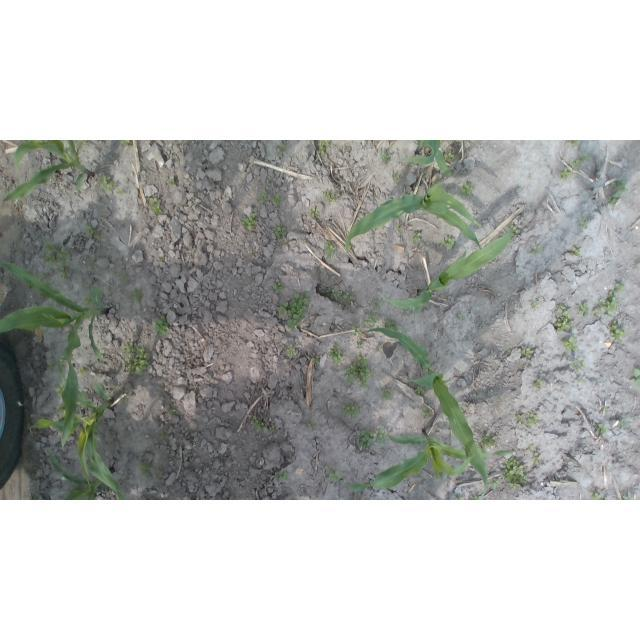Maize: (363, 327, 489, 500), (1, 259, 110, 449), (30, 368, 125, 501), (341, 426, 516, 494), (377, 226, 512, 312), (346, 181, 483, 252), (2, 140, 95, 206), (45, 452, 114, 500), (398, 140, 454, 178)
Weeds: (120, 343, 151, 377), (344, 356, 373, 389), (287, 291, 309, 330), (505, 456, 528, 488), (43, 240, 71, 264), (592, 291, 616, 317), (607, 179, 627, 205), (554, 311, 574, 332), (359, 430, 377, 452), (516, 413, 540, 428), (608, 319, 624, 341), (329, 288, 356, 300), (329, 343, 344, 364), (325, 467, 343, 484), (155, 316, 170, 336), (561, 336, 578, 352), (481, 433, 497, 450), (97, 173, 115, 188), (252, 416, 267, 433), (243, 213, 257, 231), (343, 404, 362, 417), (383, 317, 399, 332), (274, 228, 288, 245), (150, 197, 163, 215), (137, 459, 152, 474), (59, 264, 73, 280), (459, 183, 474, 197), (442, 236, 457, 250), (569, 358, 584, 372), (284, 345, 298, 359), (365, 315, 380, 328), (630, 369, 640, 388), (324, 242, 337, 256), (576, 303, 589, 317), (402, 308, 421, 317), (597, 423, 610, 435), (55, 403, 66, 417), (323, 191, 337, 202), (561, 166, 572, 180), (520, 348, 534, 359), (380, 388, 392, 400), (83, 294, 94, 307), (529, 244, 542, 255), (278, 301, 288, 315), (273, 278, 283, 292), (259, 189, 268, 204), (378, 429, 387, 444), (54, 383, 64, 396), (85, 224, 95, 237), (444, 151, 457, 161), (72, 140, 88, 148), (381, 152, 392, 163), (510, 226, 521, 237), (272, 196, 282, 208), (590, 492, 603, 501), (71, 482, 81, 493), (412, 232, 422, 243), (279, 471, 289, 482), (351, 325, 361, 336), (614, 282, 624, 292), (132, 292, 143, 301), (571, 160, 580, 171), (566, 141, 580, 148), (554, 304, 566, 312), (36, 291, 46, 300), (580, 219, 588, 230), (488, 480, 499, 488), (533, 452, 540, 464), (620, 418, 629, 427), (372, 300, 381, 309), (59, 358, 69, 366), (571, 248, 581, 256), (310, 207, 318, 217), (120, 141, 131, 148), (580, 153, 589, 161), (312, 356, 320, 365), (89, 259, 97, 268), (321, 141, 331, 148), (422, 409, 430, 417), (116, 189, 124, 197), (414, 385, 422, 393), (112, 385, 119, 394), (160, 433, 169, 440), (280, 144, 287, 153), (167, 408, 177, 414), (37, 272, 47, 278), (395, 225, 403, 232), (458, 313, 465, 321), (319, 146, 325, 155), (357, 340, 363, 349), (526, 445, 533, 452), (123, 394, 129, 402), (600, 405, 608, 411), (535, 380, 541, 388), (47, 361, 52, 370), (168, 178, 175, 184), (533, 303, 540, 309), (473, 496, 481, 501), (121, 274, 128, 279), (349, 245, 355, 250), (377, 348, 383, 353), (624, 496, 631, 500), (481, 323, 488, 327), (456, 497, 465, 500), (80, 368, 85, 373), (250, 252, 255, 257), (308, 424, 313, 429), (508, 348, 513, 353), (579, 378, 585, 382), (160, 256, 165, 260), (396, 176, 400, 180), (268, 428, 272, 432), (104, 491, 109, 494)
